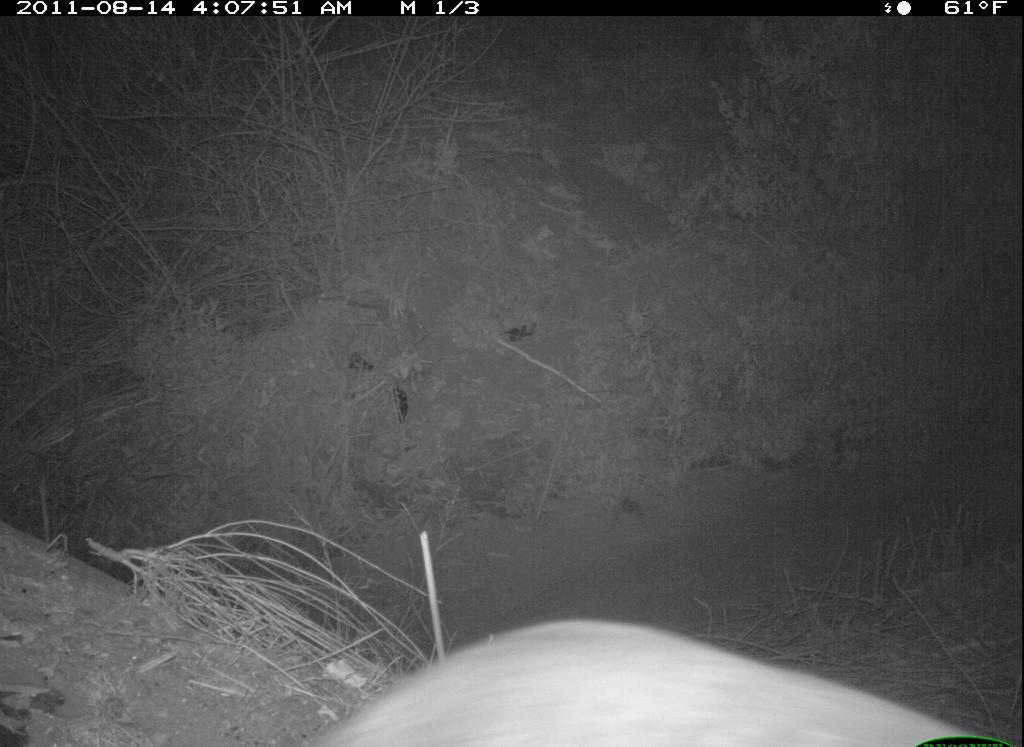cat: (289, 612, 996, 747)
